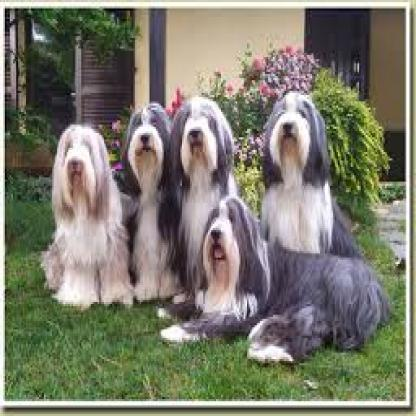Bearded Collie: (35, 114, 129, 317), (248, 66, 346, 256), (188, 189, 270, 348), (168, 80, 250, 196), (122, 100, 174, 235)
